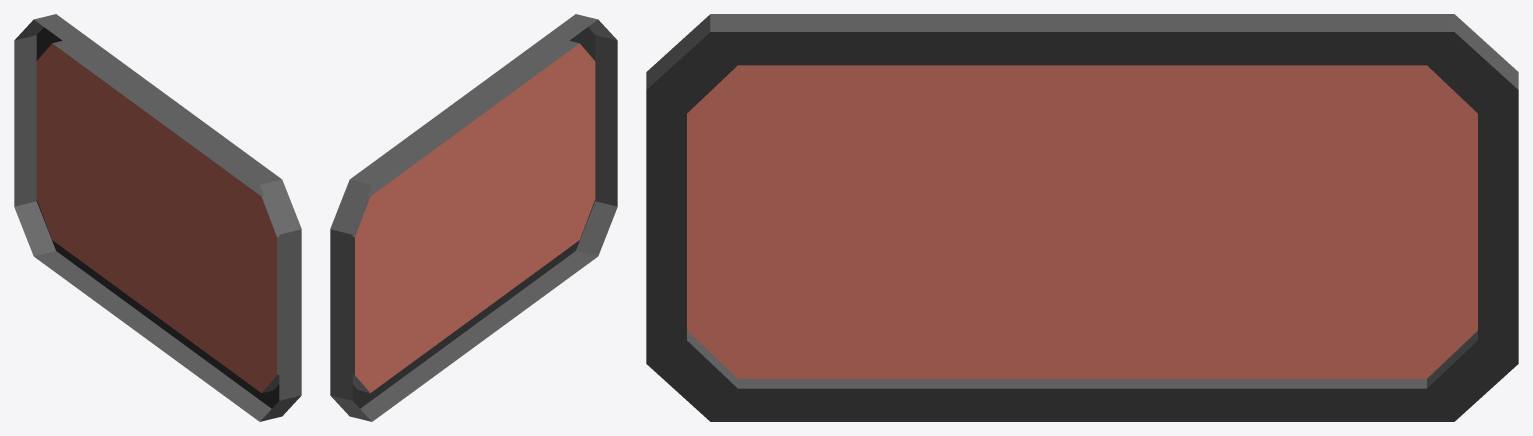
Rendered from Building_Window_Medium.fbx.
3 views of the same model, side by side, from view 1: azimuth 30°, elevation 25°; view 2: azimuth 150°, elevation 25°; view 3: azimuth 270°, elevation 25° (orthographic). The views are drawn at different scales.
Visible parts, largest first — view 1: Building_Window_Medium; view 2: Building_Window_Medium; view 3: Building_Window_Medium.
Boxes of the visible parts, x1,y1,x2,y2 form: Building_Window_Medium: [14, 14, 301, 421]; Building_Window_Medium: [330, 14, 617, 421]; Building_Window_Medium: [646, 14, 1518, 421].
Bounding box in the file's own units: 9.92 × 100 × 203.
